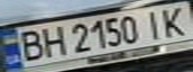0: (118, 12, 145, 44)
1: (87, 17, 109, 50)
2: (66, 20, 93, 53)
5: (103, 15, 124, 47)
B: (12, 27, 48, 62)
H: (36, 24, 69, 57)
I: (139, 8, 169, 39)
K: (154, 3, 193, 37)
